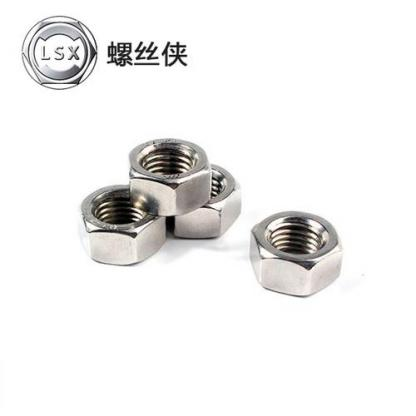FOD: (244, 209, 348, 299), (71, 183, 169, 265), (124, 138, 212, 216), (156, 162, 243, 240)
